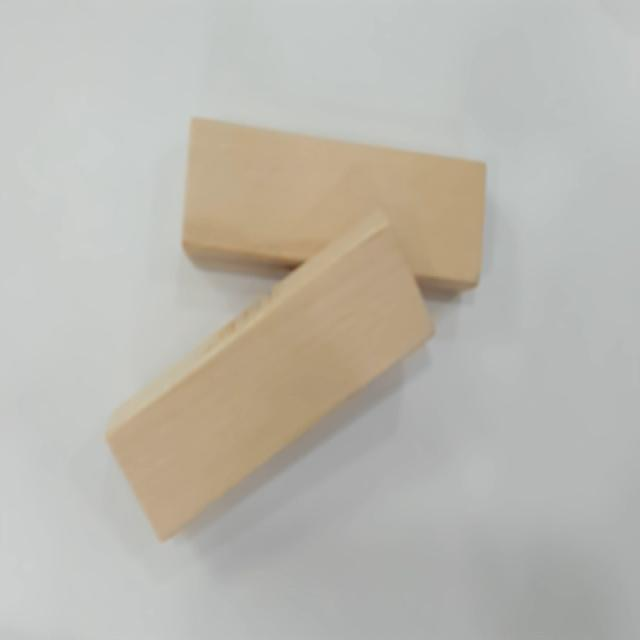Jenga: (106, 202, 438, 548), (180, 115, 488, 301)
